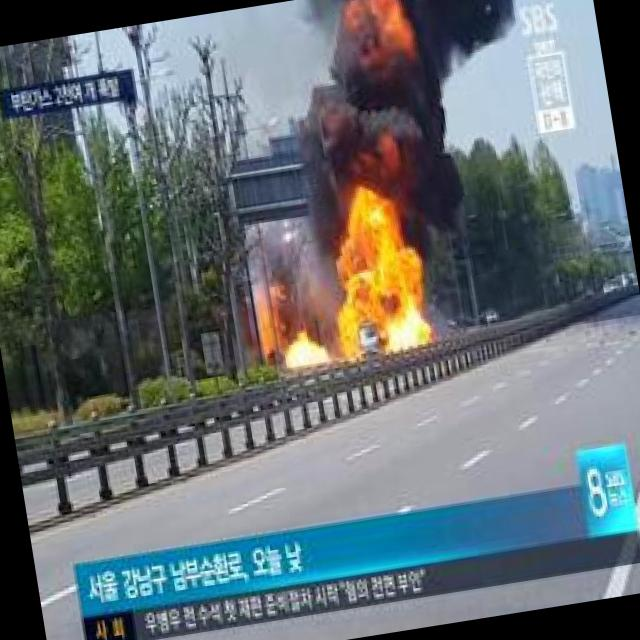Fire: (326, 198, 436, 359), (284, 328, 332, 370), (256, 286, 275, 351)
Smoke: (277, 0, 541, 208)
